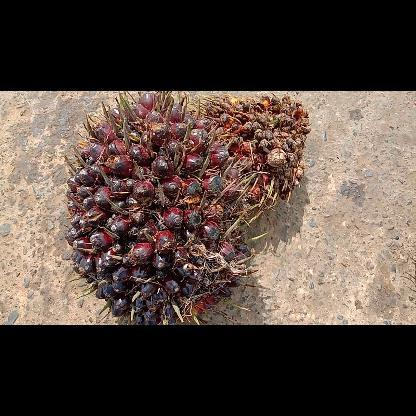Kurang masak: (62, 90, 266, 324)
TBS abnormal: (188, 91, 308, 204)
